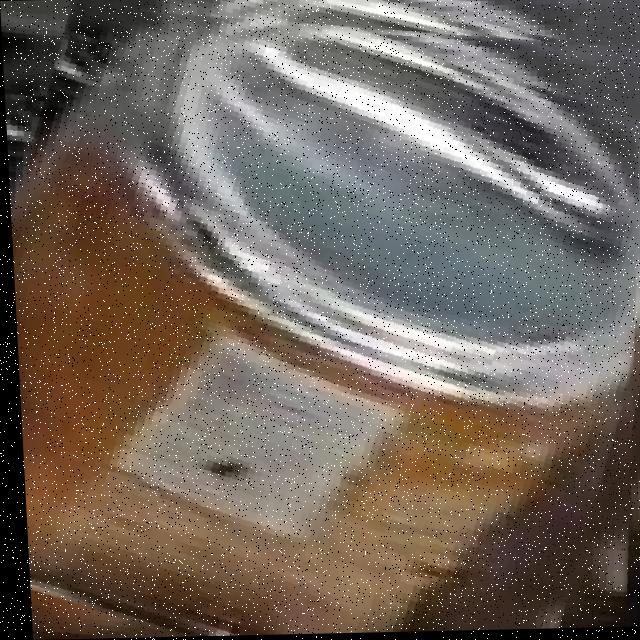litter: (10, 13, 638, 637)
